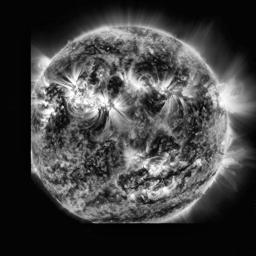solar flares: (85, 92, 121, 115), (121, 72, 147, 95), (146, 156, 171, 176), (61, 77, 82, 98), (125, 142, 143, 166), (209, 86, 224, 114), (178, 85, 195, 106), (153, 77, 170, 97)
sunspots: (134, 50, 175, 81), (83, 148, 113, 177), (85, 113, 105, 151), (49, 107, 72, 137), (180, 118, 200, 150), (85, 41, 118, 60), (118, 172, 147, 190), (139, 93, 160, 116), (154, 131, 174, 149), (92, 191, 120, 203), (92, 65, 102, 88), (109, 76, 120, 96)
